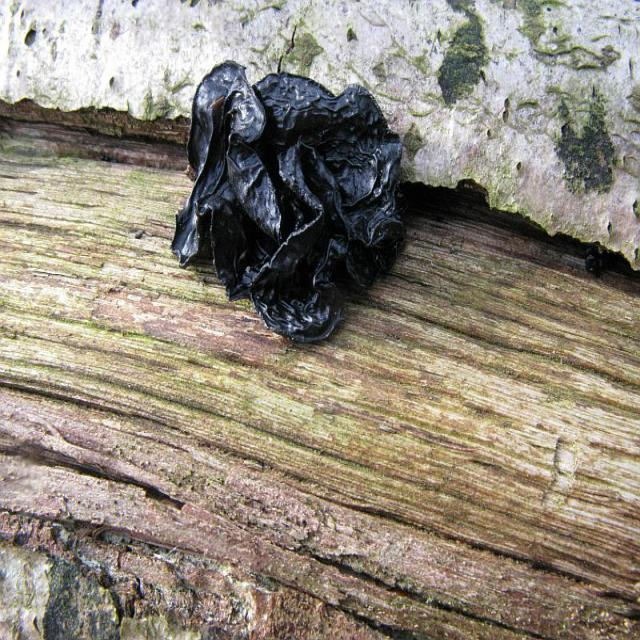Auricularia auricula: (175, 58, 405, 341)
